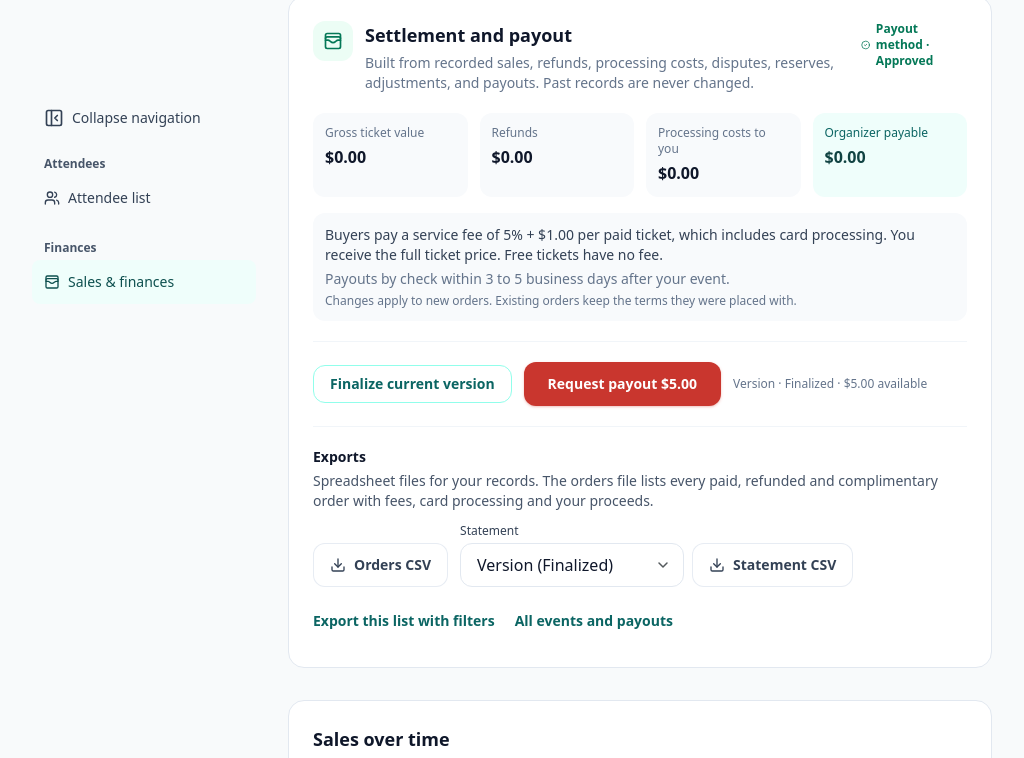
distinguishes requesting a payout from a confirmed transfer
The image size is (1024, 758).
(page scrolled)
Click the button "Request payout $5.00" at (622, 384), box [524,362,721,406]
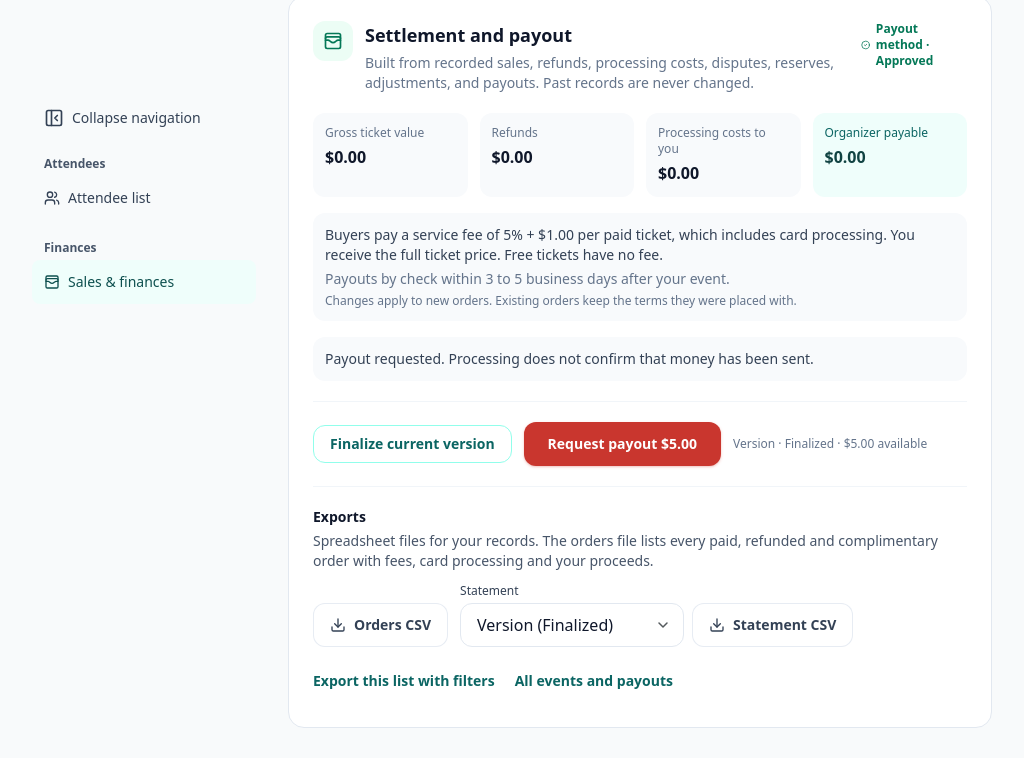
Now the message reads "Payout requested. Processing does not confirm that money has been sent.", box [325,349,814,368]
